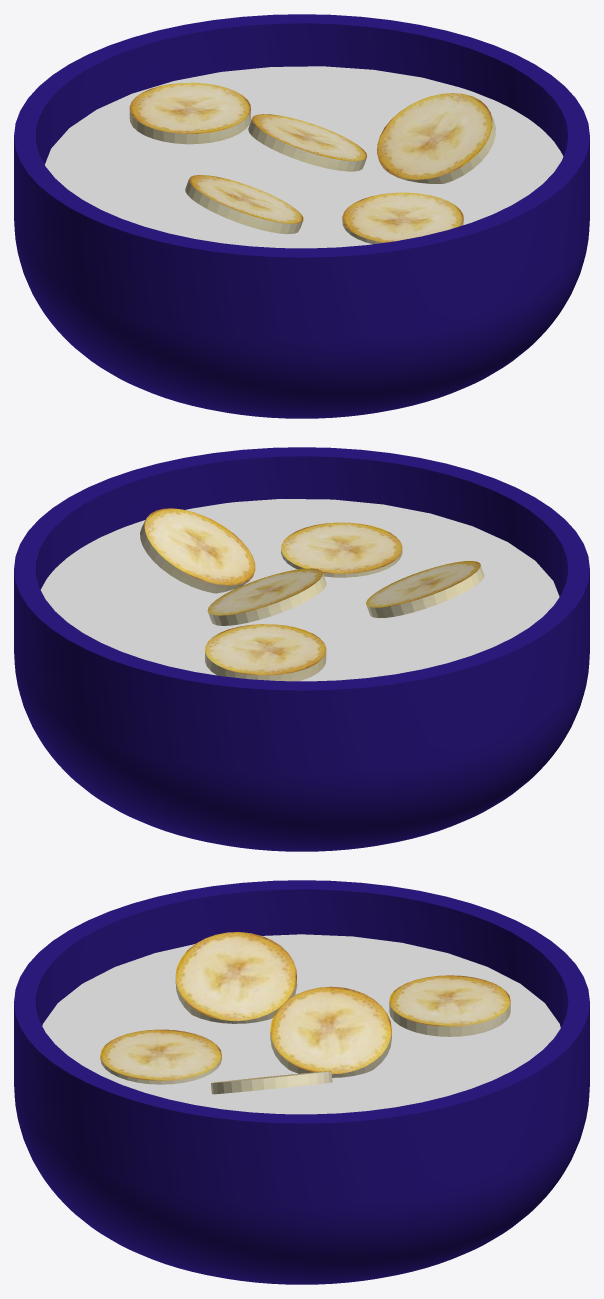
Rendered from kolak pisang.fbx.
3 views of the same model, one above another, from view 1: azimuth 30°, elevation 25°; view 2: azimuth 150°, elevation 25°; view 3: azimuth 270°, elevation 25° (orthographic).
Visible parts, largest first — view 1: CUBA+BOWL+40, Cylinder, Cylinder.001, Cylinder.005, Cylinder.002, Cylinder.004, Cylinder.003; view 2: CUBA+BOWL+40, Cylinder, Cylinder.001, Cylinder.005, Cylinder.002, Cylinder.004, Cylinder.003; view 3: CUBA+BOWL+40, Cylinder, Cylinder.003, Cylinder.004, Cylinder.005, Cylinder.002, Cylinder.001.
Part boxes in pixels (bbox=[...]): CUBA+BOWL+40: bbox=[14, 14, 589, 418]; Cylinder: bbox=[45, 66, 563, 248]; Cylinder.001: bbox=[377, 93, 495, 183]; Cylinder.005: bbox=[129, 82, 250, 144]; Cylinder.002: bbox=[342, 192, 463, 244]; Cylinder.004: bbox=[248, 114, 366, 171]; Cylinder.003: bbox=[185, 175, 303, 234]; CUBA+BOWL+40: bbox=[14, 447, 589, 851]; Cylinder: bbox=[41, 499, 559, 681]; Cylinder.001: bbox=[140, 508, 255, 593]; Cylinder.005: bbox=[205, 624, 326, 681]; Cylinder.002: bbox=[281, 522, 402, 577]; Cylinder.004: bbox=[207, 568, 326, 625]; Cylinder.003: bbox=[366, 561, 484, 618]; CUBA+BOWL+40: bbox=[14, 880, 589, 1284]; Cylinder: bbox=[42, 934, 560, 1114]; Cylinder.003: bbox=[175, 932, 297, 1023]; Cylinder.004: bbox=[270, 986, 391, 1077]; Cylinder.005: bbox=[389, 975, 510, 1036]; Cylinder.002: bbox=[100, 1029, 221, 1084]; Cylinder.001: bbox=[211, 1071, 332, 1094].
Size of the model in its own units: 7744 by 3175 by 7744.
